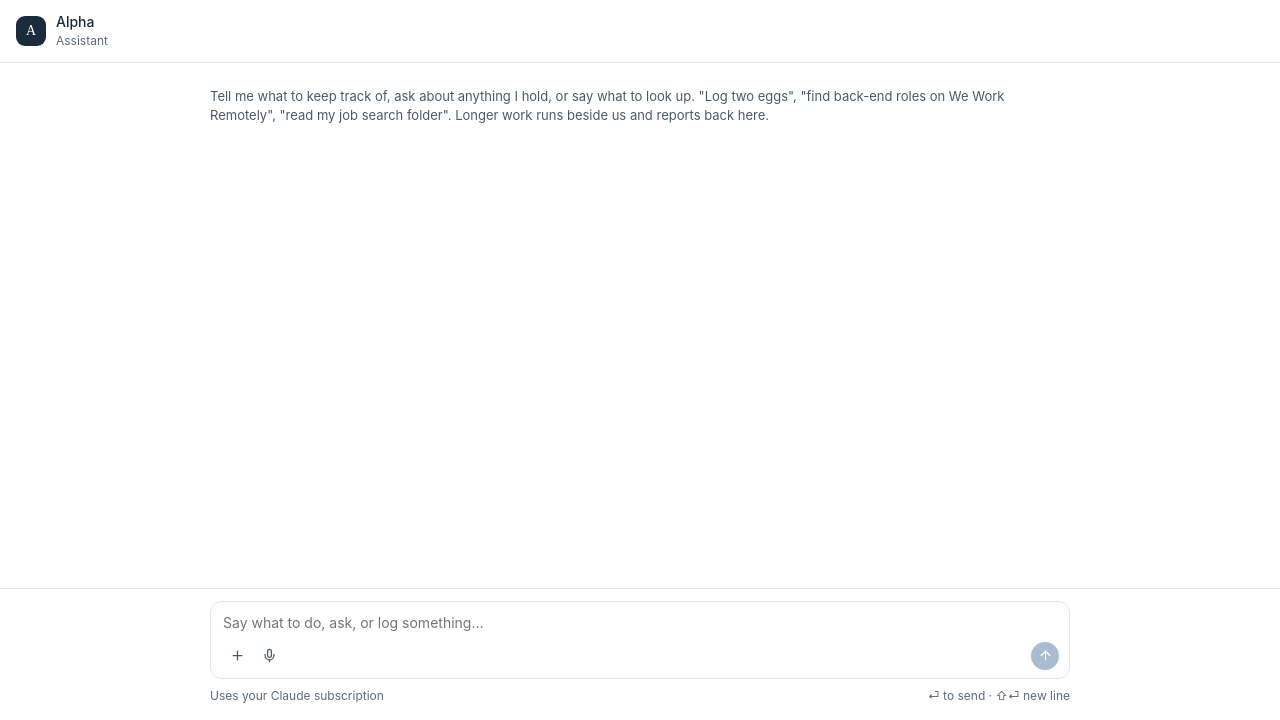
it: the reply as it is written › keeps one element from the first words to the journal's reply, so nothing is replaced
In the text box named "Message Alpha": coordinates (641, 624) [223, 612, 1059, 636], type "log two eggs"
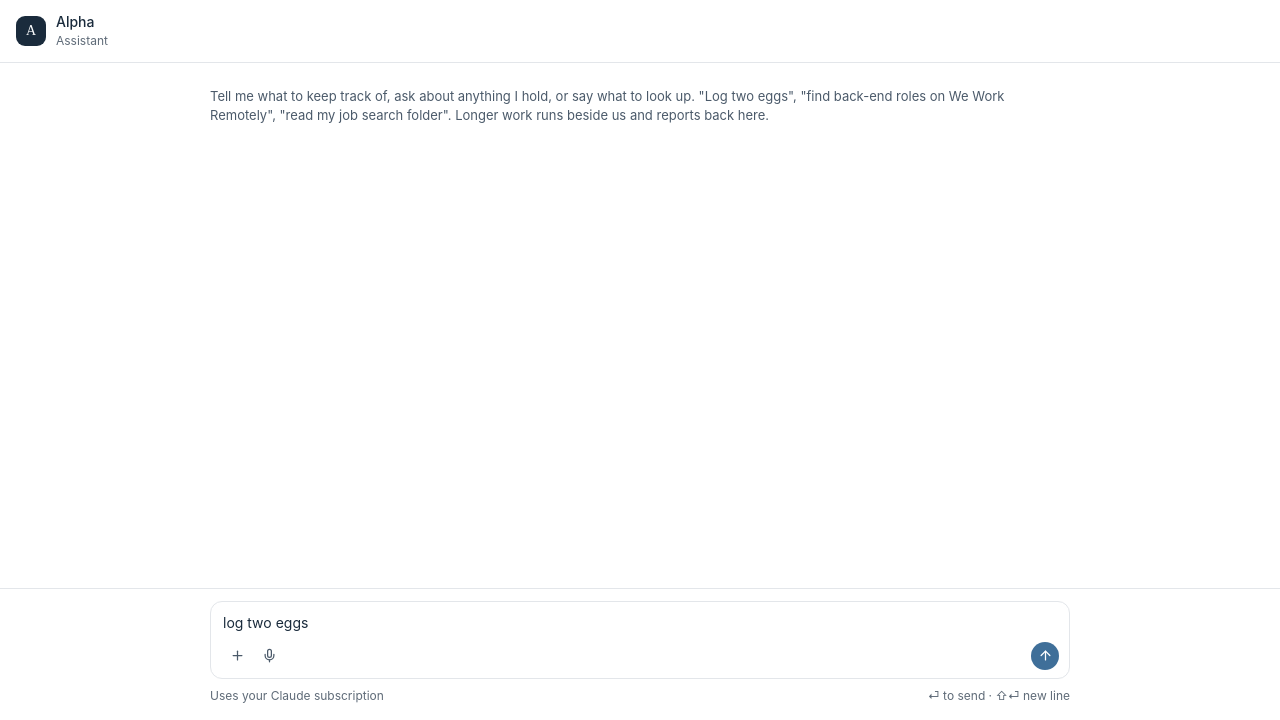
Press Enter in the text box named "Message Alpha", box [223, 612, 1059, 636]
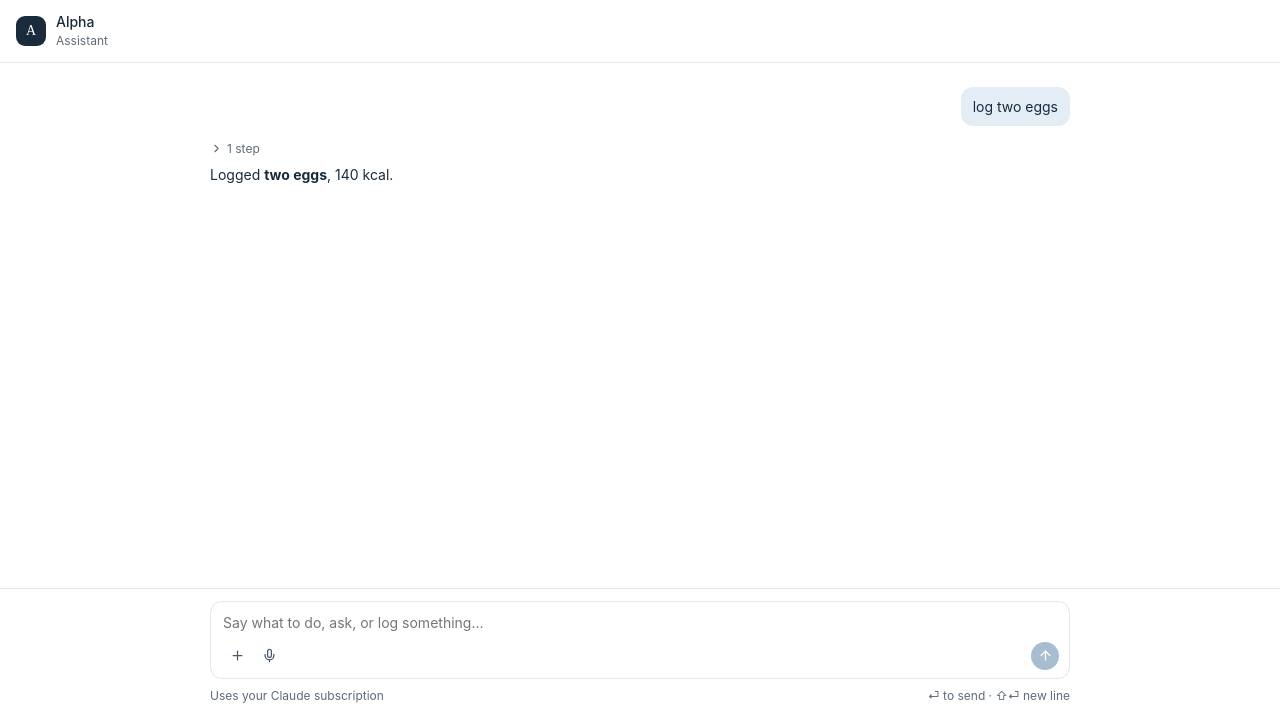
Check: the text "two eggs" shows "140 kcal.", box [327, 166, 393, 183]
